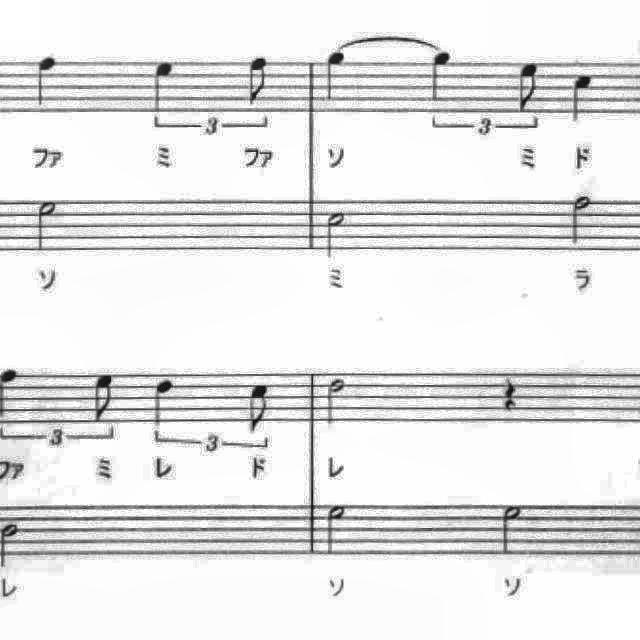Eighth-note: (511, 58, 549, 119), (239, 50, 277, 110), (242, 377, 278, 439), (89, 367, 123, 425)
Half-note: (492, 496, 528, 560), (31, 192, 64, 256), (322, 498, 354, 562), (319, 207, 353, 265), (564, 188, 596, 248), (320, 372, 350, 428)
Quarter-note: (27, 49, 64, 115), (144, 55, 182, 119), (320, 47, 356, 109), (424, 46, 460, 108), (564, 70, 600, 130), (146, 370, 182, 430)
Quarter-rest: (494, 372, 526, 420)
